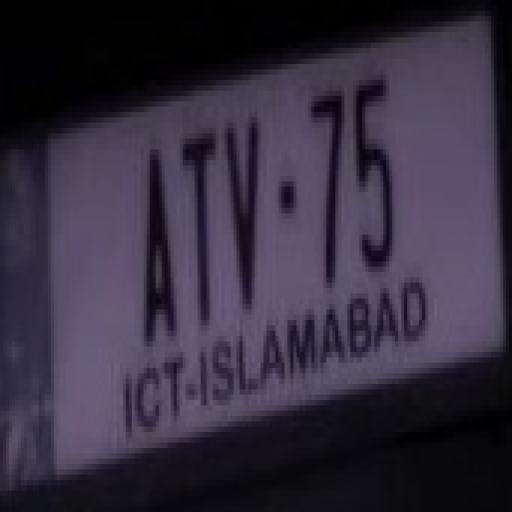5: (350, 70, 398, 277)
7: (305, 84, 345, 302)
A: (130, 150, 180, 349)
T: (178, 134, 218, 333)
V: (218, 110, 265, 320)
